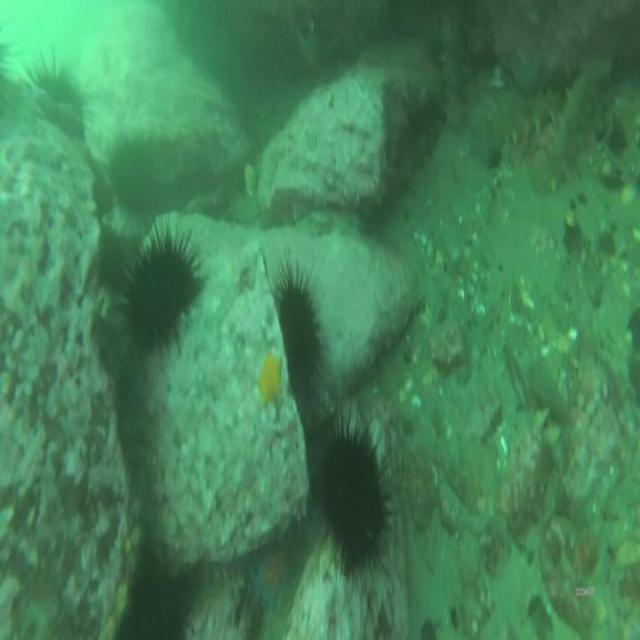echinus: (321, 423, 388, 569), (125, 238, 195, 336), (284, 272, 322, 390), (109, 139, 151, 204), (28, 60, 88, 103)
holothurian: (535, 49, 605, 190), (490, 93, 561, 141), (442, 13, 466, 128)
scallop: (243, 160, 257, 196)
starfish: (256, 547, 295, 602), (256, 351, 285, 404)
